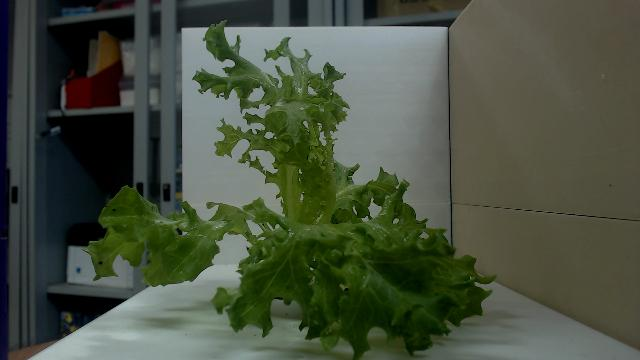Harvest Stage: (82, 19, 498, 360)
